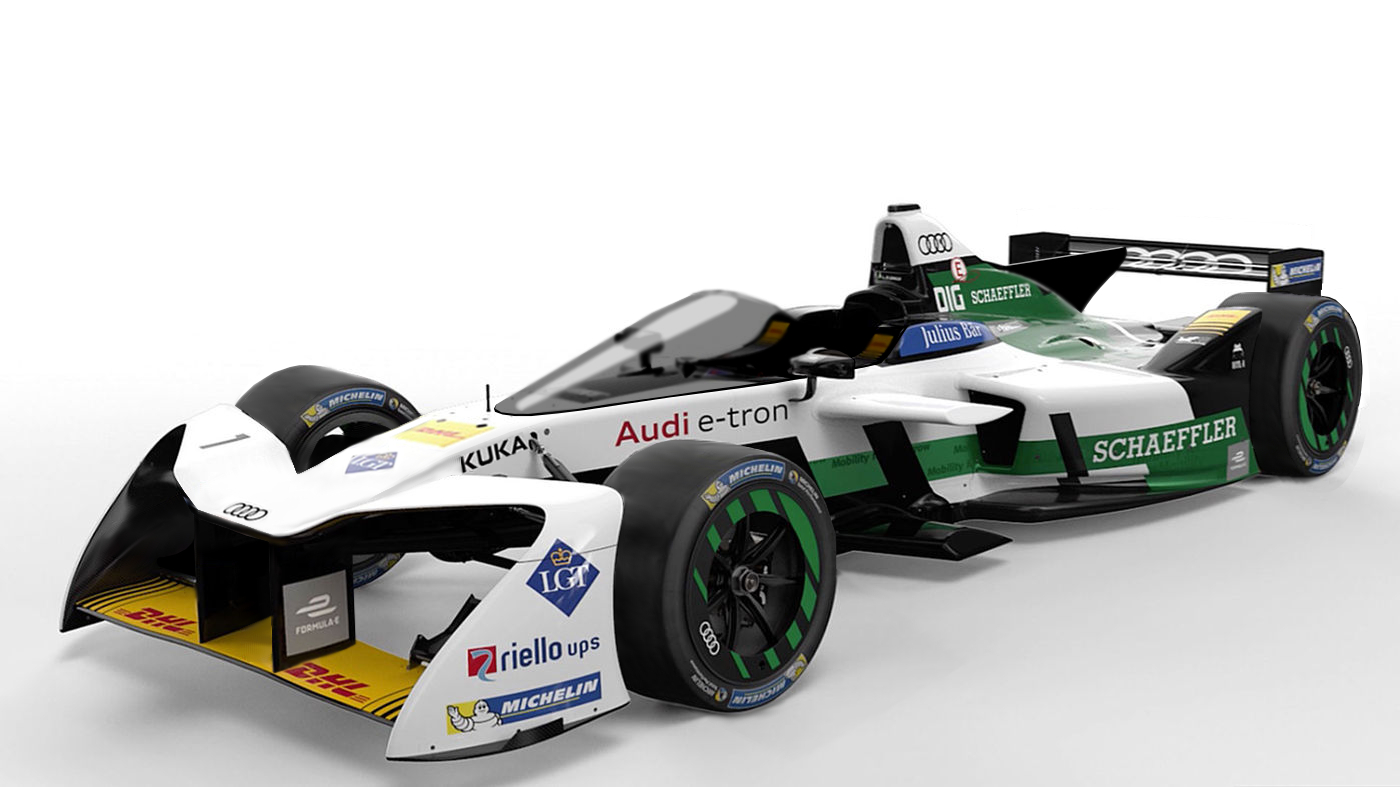f1_car: (48, 183, 1368, 781)
